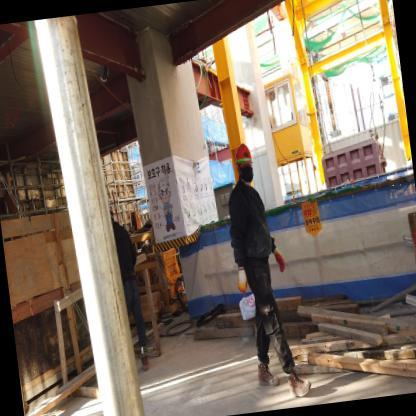Helmet: (230, 143, 257, 165)
safety-shoe: (249, 355, 281, 396), (282, 366, 313, 408), (139, 346, 153, 375)
